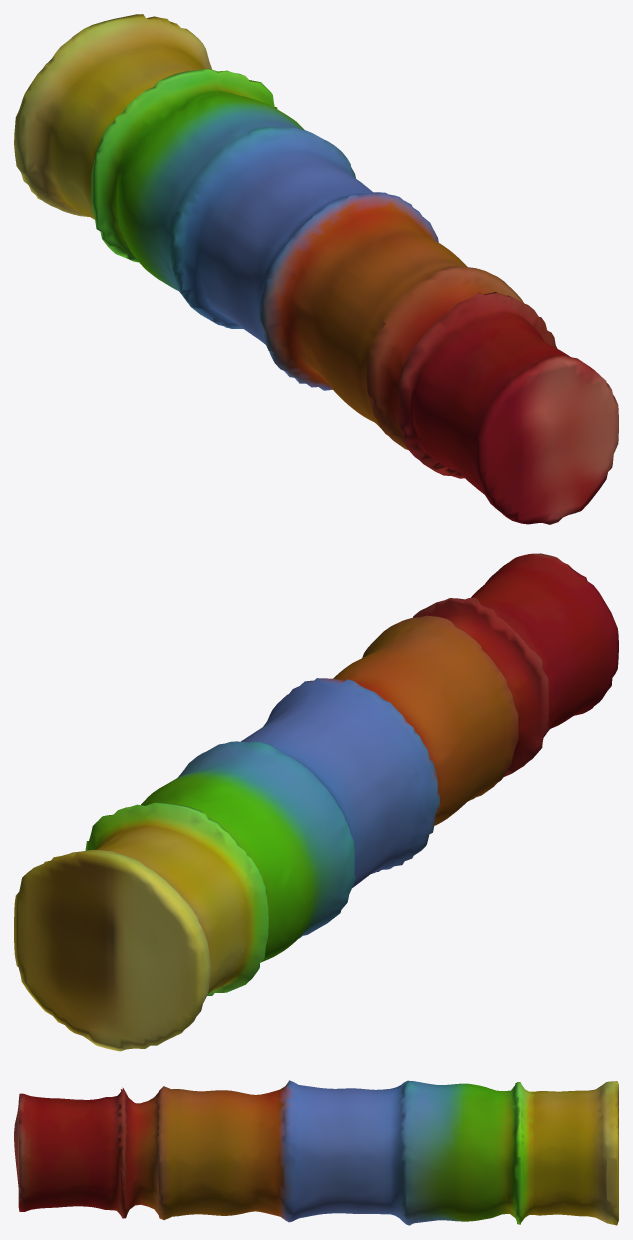
File: stucking_cups.glb
3 renders of one model, top to bottom at view 1: azimuth 30°, elevation 25°; view 2: azimuth 150°, elevation 25°; view 3: azimuth 270°, elevation 25°, orthographic. The views are drawn at different scales.
Size of the model in its own units: 0.2492 by 0.2432 by 1.
